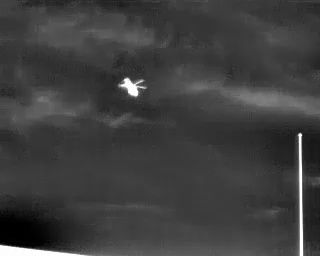HELICOPTER: (115, 72, 151, 103)
